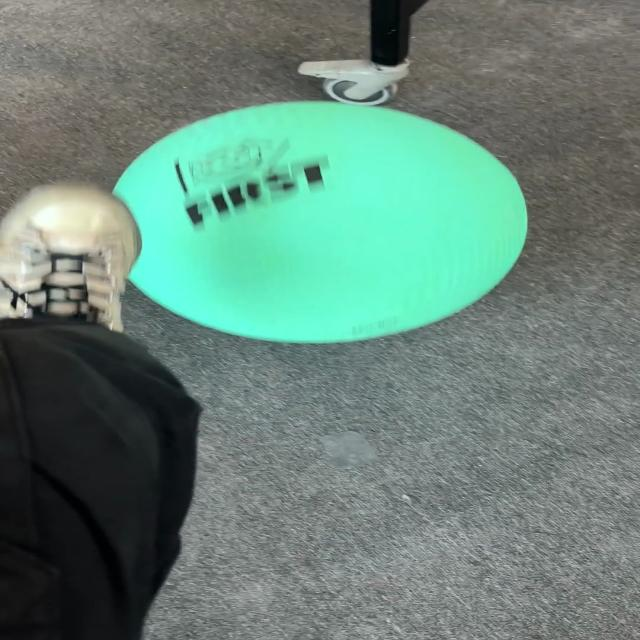Algae: (110, 99, 529, 345)
